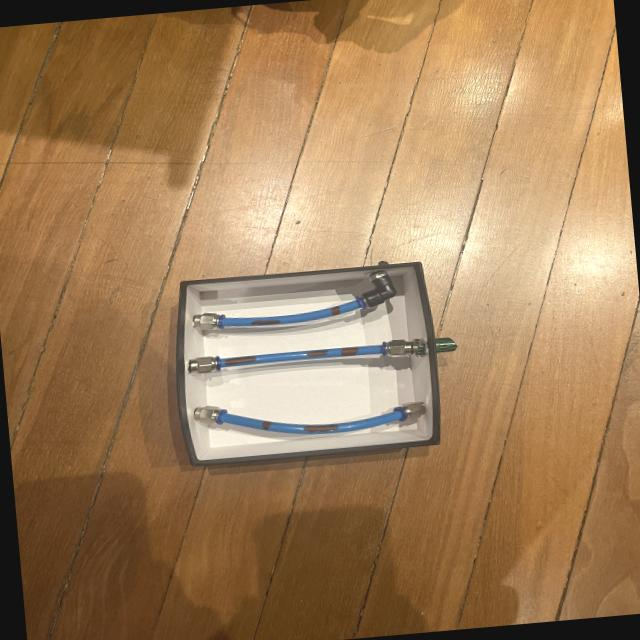hose_damage: (302, 422, 340, 434), (222, 354, 257, 366), (248, 316, 280, 328), (339, 345, 360, 357), (304, 348, 328, 358), (258, 419, 274, 431), (328, 306, 341, 316)
